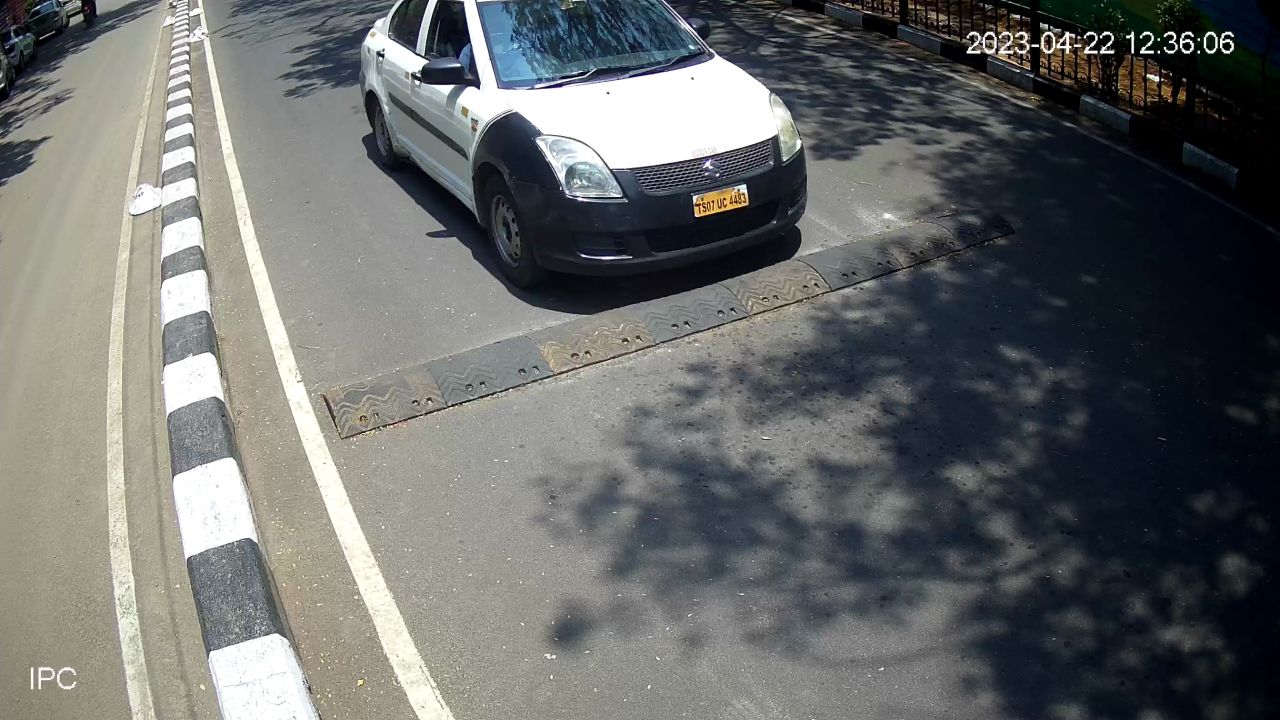license_plate: (687, 181, 753, 221)
